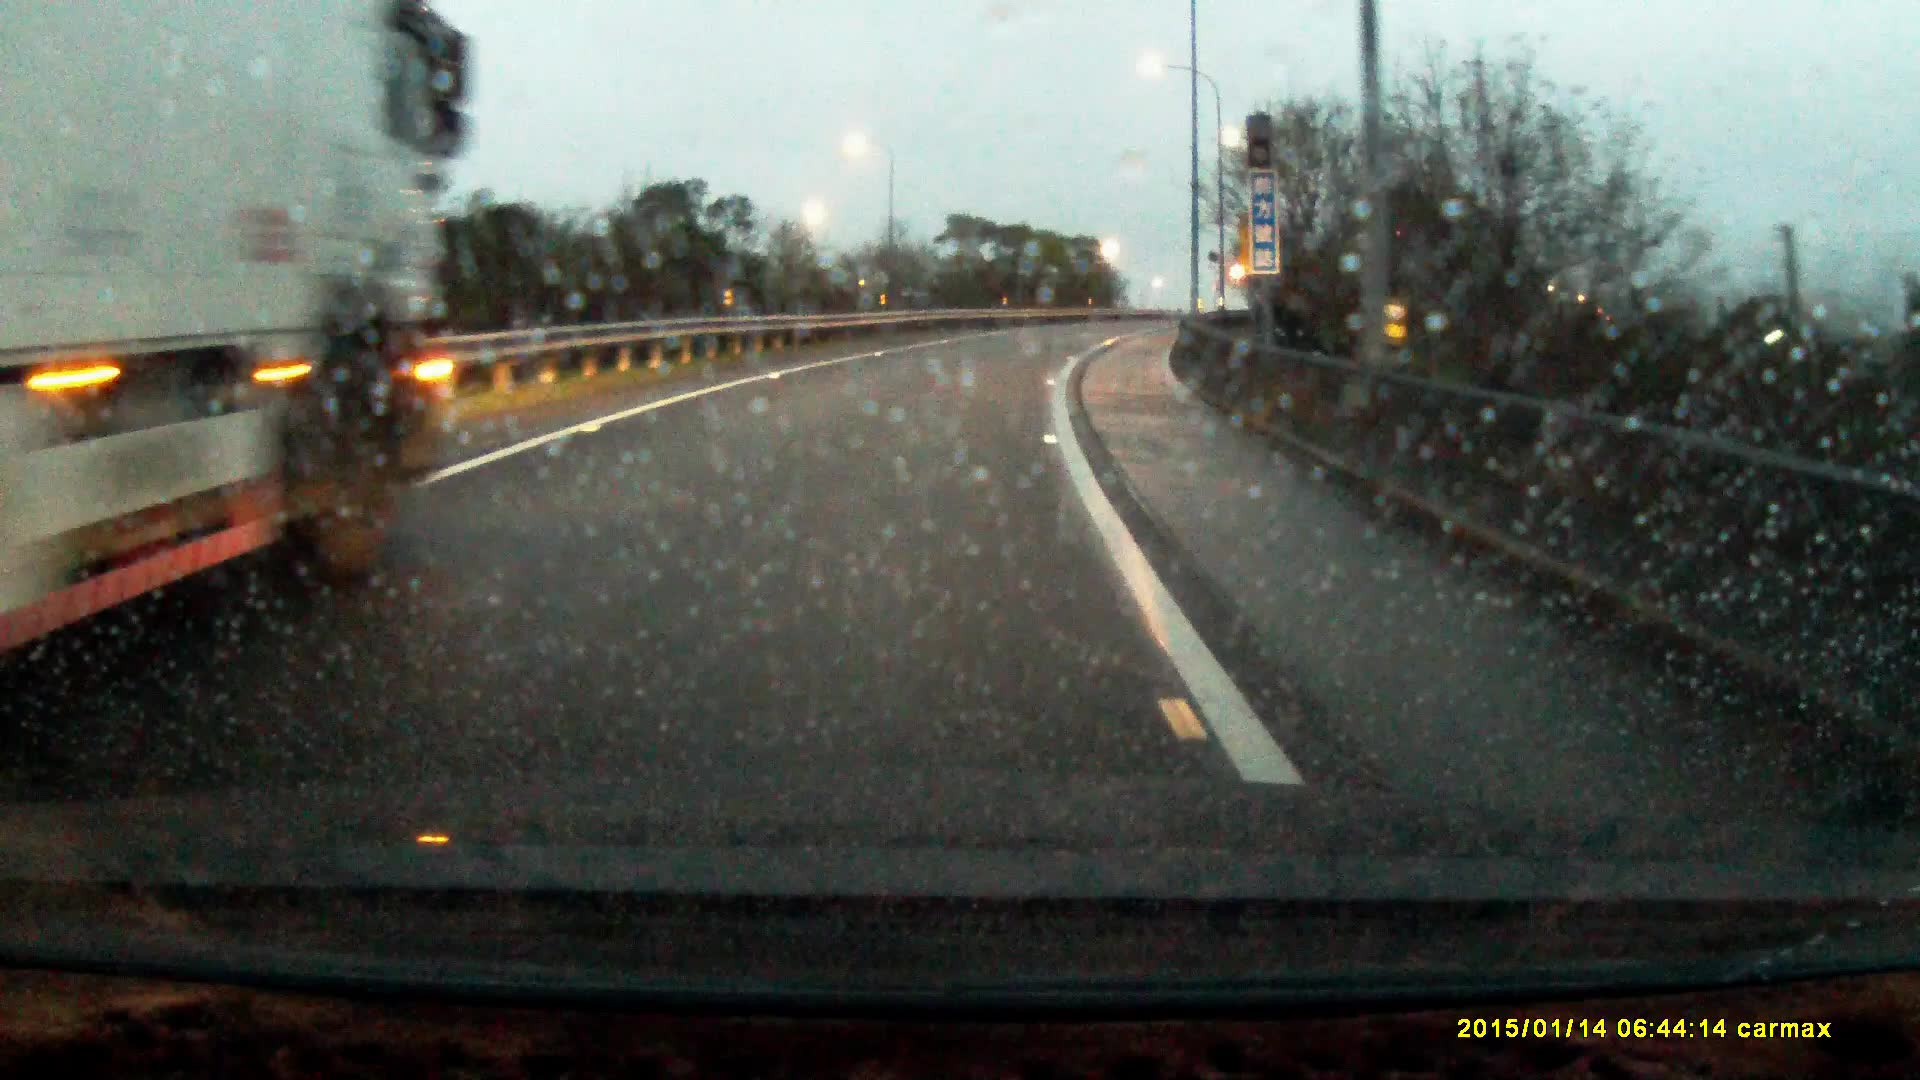vehicle: (1, 1, 472, 647)
